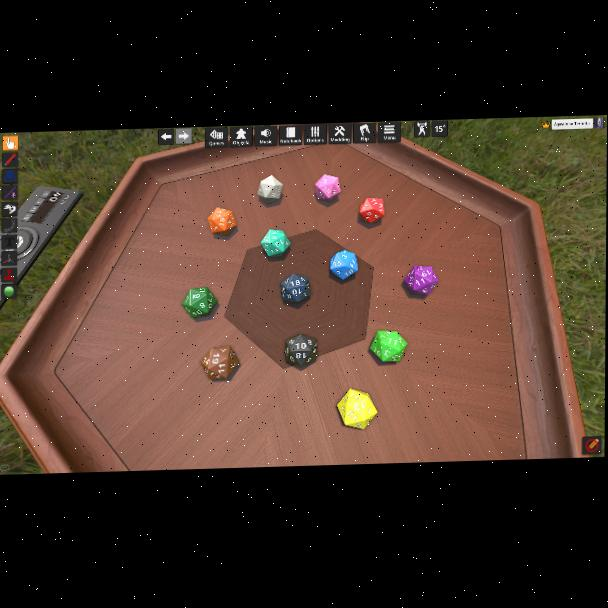d20: (337, 387, 377, 429), (199, 345, 236, 380), (370, 330, 405, 363), (284, 333, 317, 366), (182, 287, 214, 318), (408, 265, 439, 297), (279, 274, 309, 306), (260, 228, 290, 258), (329, 251, 357, 281), (256, 174, 283, 204), (208, 207, 235, 236), (314, 174, 339, 203), (360, 198, 385, 224)
